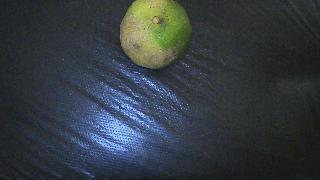DESECHO: (120, 0, 191, 69)
